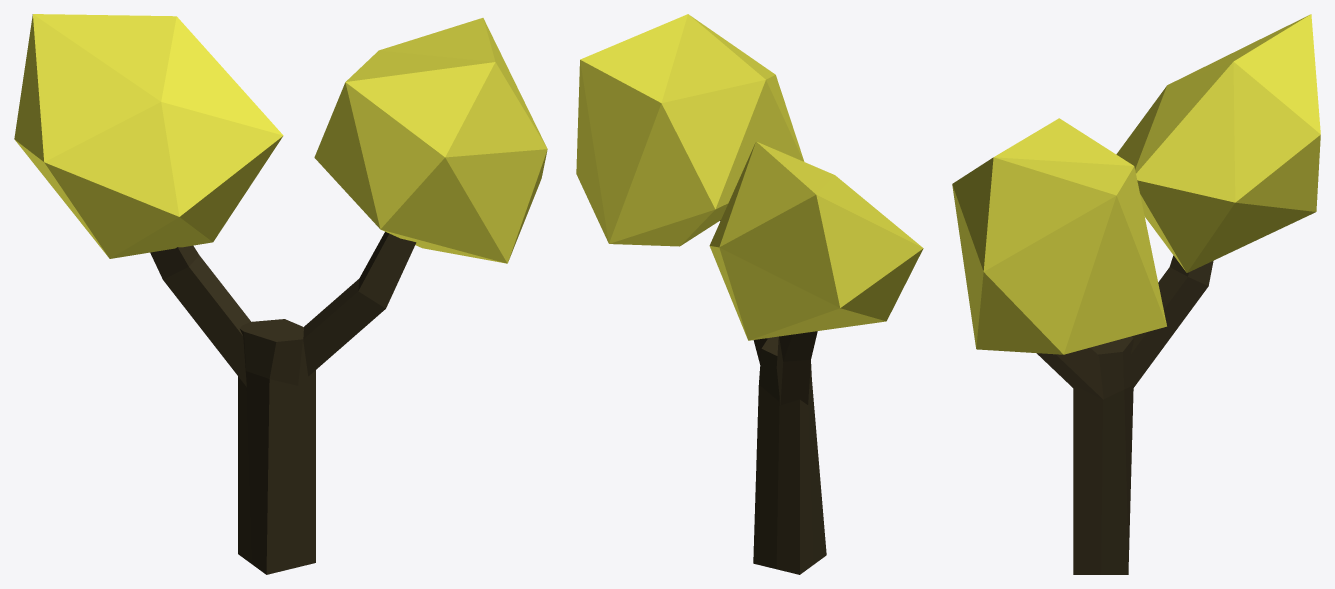
File: tree3.fbx
3 renders of one model, left to right at view 1: azimuth 30°, elevation 25°; view 2: azimuth 150°, elevation 25°; view 3: azimuth 270°, elevation 25°, orthographic. The views are drawn at different scales.
Visible parts, largest first — view 1: Icosphere.003, Icosphere.004, Cube.005, Cube.006, Cube.004; view 2: Icosphere.004, Icosphere.003, Cube.005, Cube.004; view 3: Icosphere.004, Icosphere.003, Cube.005, Cube.004, Cube.006.
Part boxes in pixels (x1,y1,x2,y2): Icosphere.003: (14,14,283,258); Icosphere.004: (314,18,547,263); Cube.005: (238,319,315,574); Cube.006: (303,231,416,376); Cube.004: (150,245,250,386); Icosphere.004: (576,14,804,246); Icosphere.003: (709,141,923,340); Cube.005: (753,336,826,574); Cube.004: (776,331,817,405); Icosphere.004: (952,118,1166,354); Icosphere.003: (1116,14,1320,272); Cube.005: (1073,336,1133,574); Cube.004: (1131,255,1213,387); Cube.006: (1036,347,1103,399).
Bounding box in the file's own units: 595 × 657 × 452.
